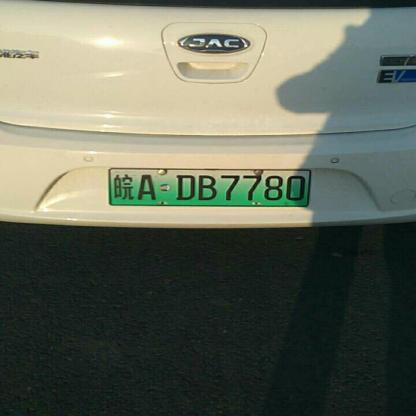lp: (110, 168, 308, 205)
